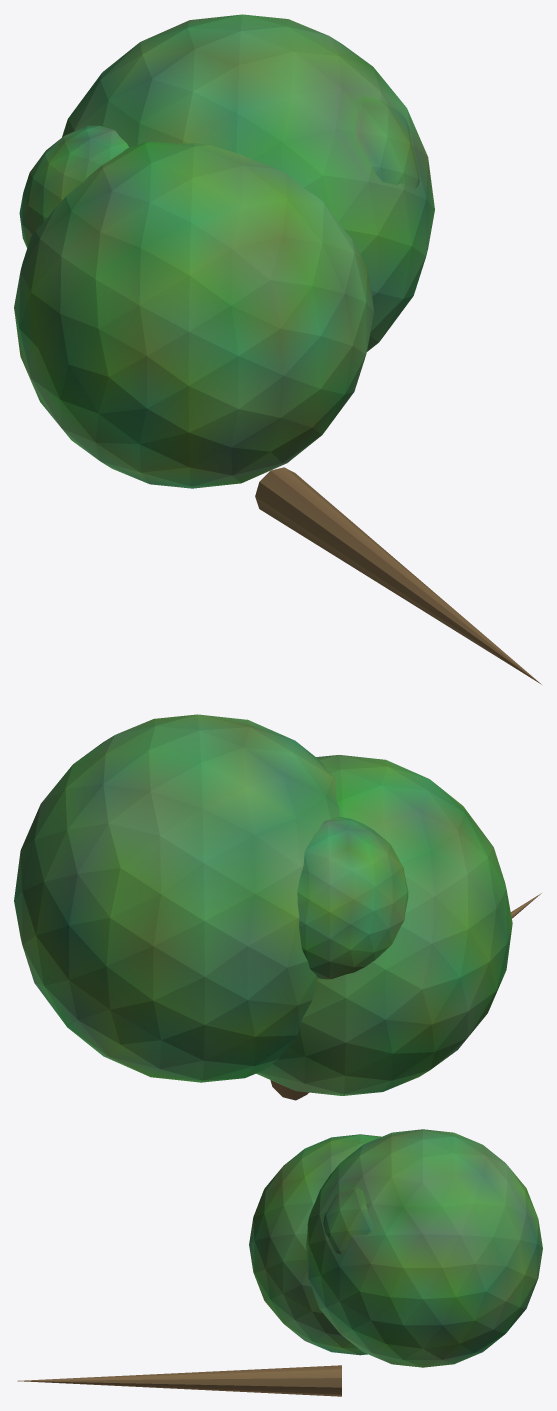
File: tree_5.glb
3 renders of one model, top to bottom at view 1: azimuth 30°, elevation 25°; view 2: azimuth 150°, elevation 25°; view 3: azimuth 270°, elevation 25°, orthographic. The views are drawn at different scales.
Parts seen in each view (by area): view 1: world; view 2: world; view 3: world.
Part boxes in pixels (<box>): world: <box>14,14,541,684</box>; world: <box>14,714,541,1100</box>; world: <box>17,1129,542,1396</box>.
Bounding box in the file's own units: 4.33 × 4.19 × 7.61.
